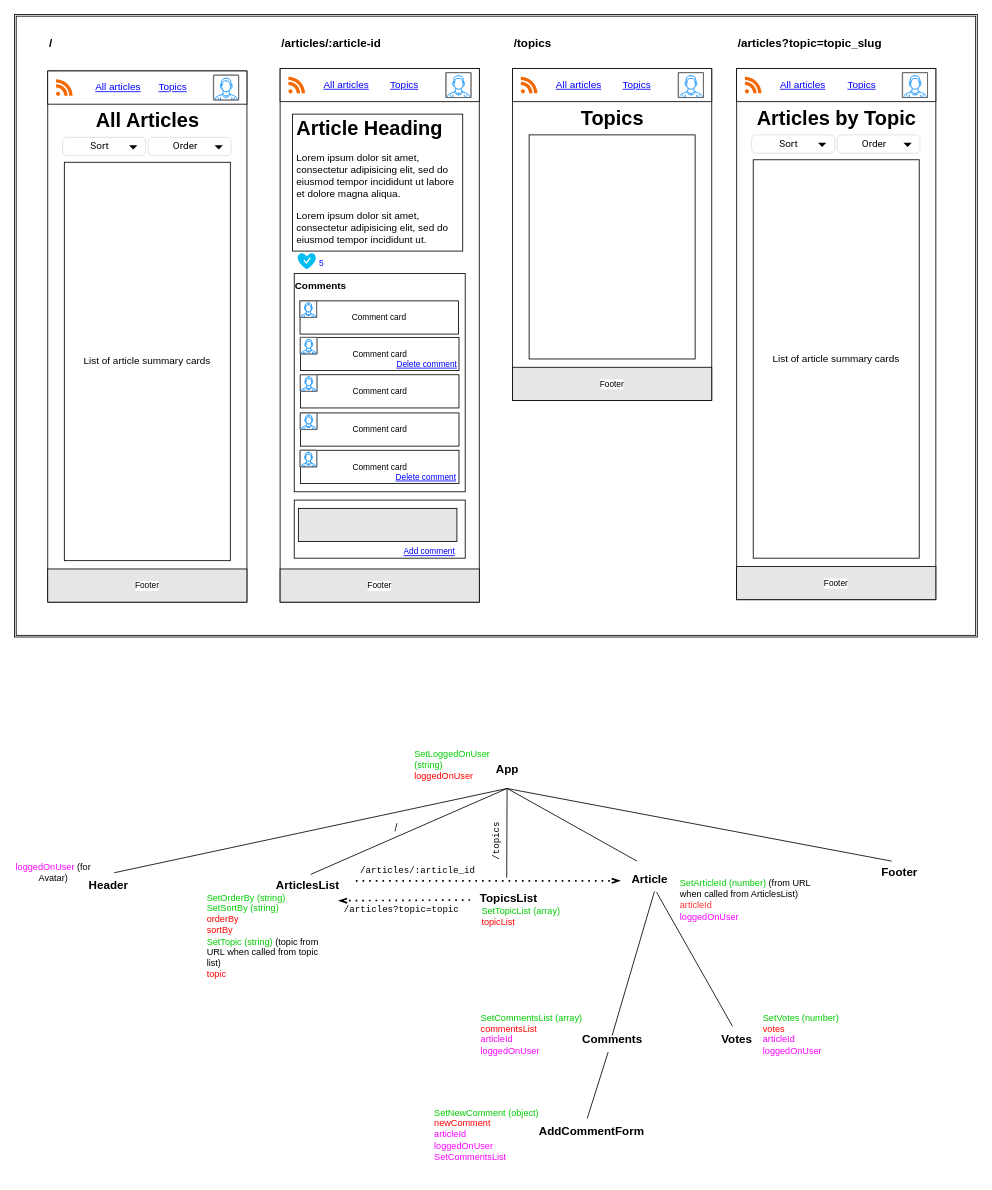
Some shapes in this 992 by 1190 pixel diagram are drawn without their labels. Each missing label, with the centre of its shape:
Form Text Area: the point at 377,525
List of topics: the point at 611,246
